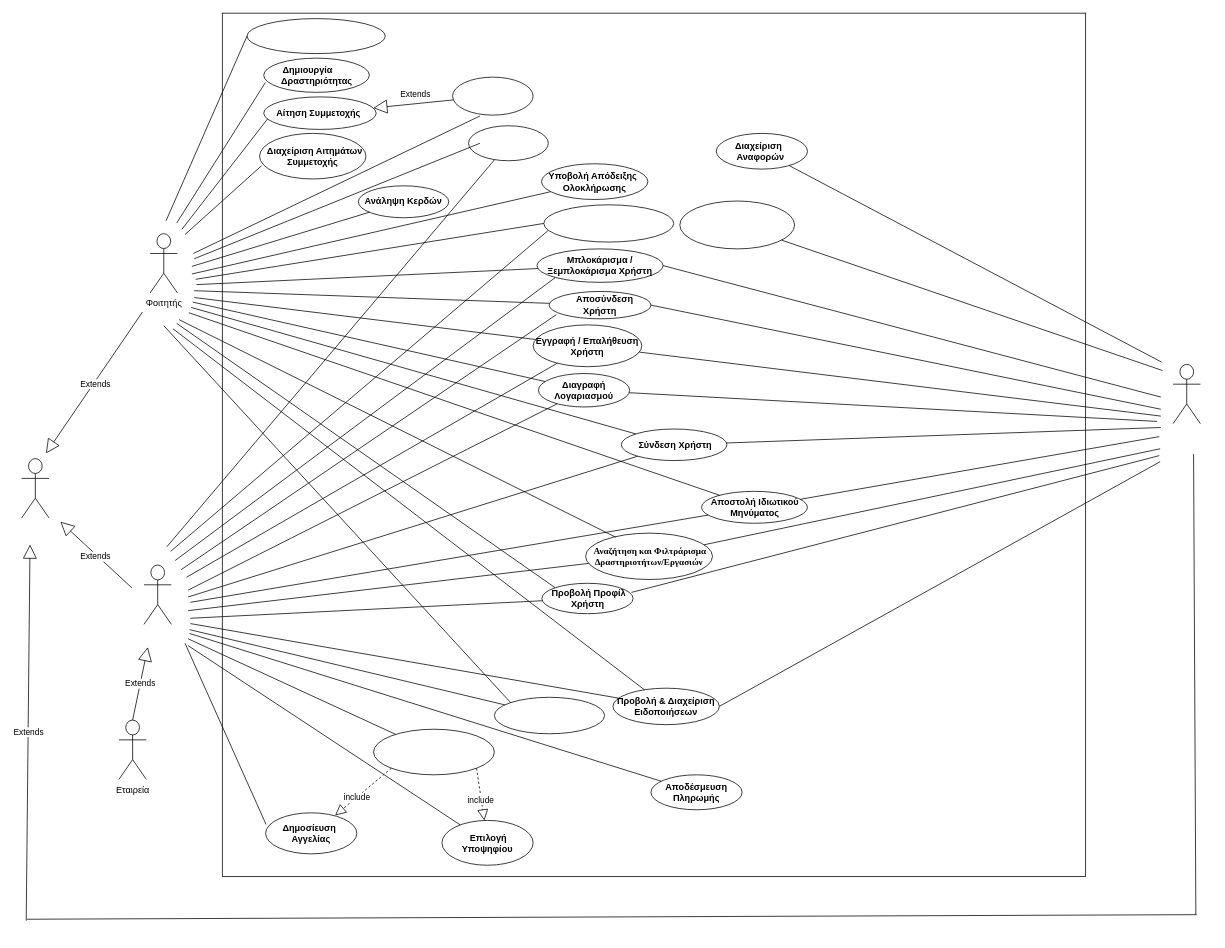
Image size: 1225x948. Some labels were removed from this diagram. The centre of each missing label's shape, as x and y in pixels:
Ακύρωση Συμμετοχής: the point at 492,95
Διαμόρφωση Προφίλ και Ενδιαφερόντων: the point at 608,223
Διαχείριση Πορτοφολιού: the point at 549,715
Διαχείριση Χρηστών: the point at 737,224
Διαχειριστής: the point at 1186,394
Επεξεργασία / Διαγραφή Αγγελίας: the point at 433,751
Επεξεργασία / Διαγραφή Δραστηριότητας: the point at 315,36
Εργοδότης: the point at 157,594
Υποβολή Αξιολόγησης: the point at 508,143
Χρήστης: the point at 35,488
